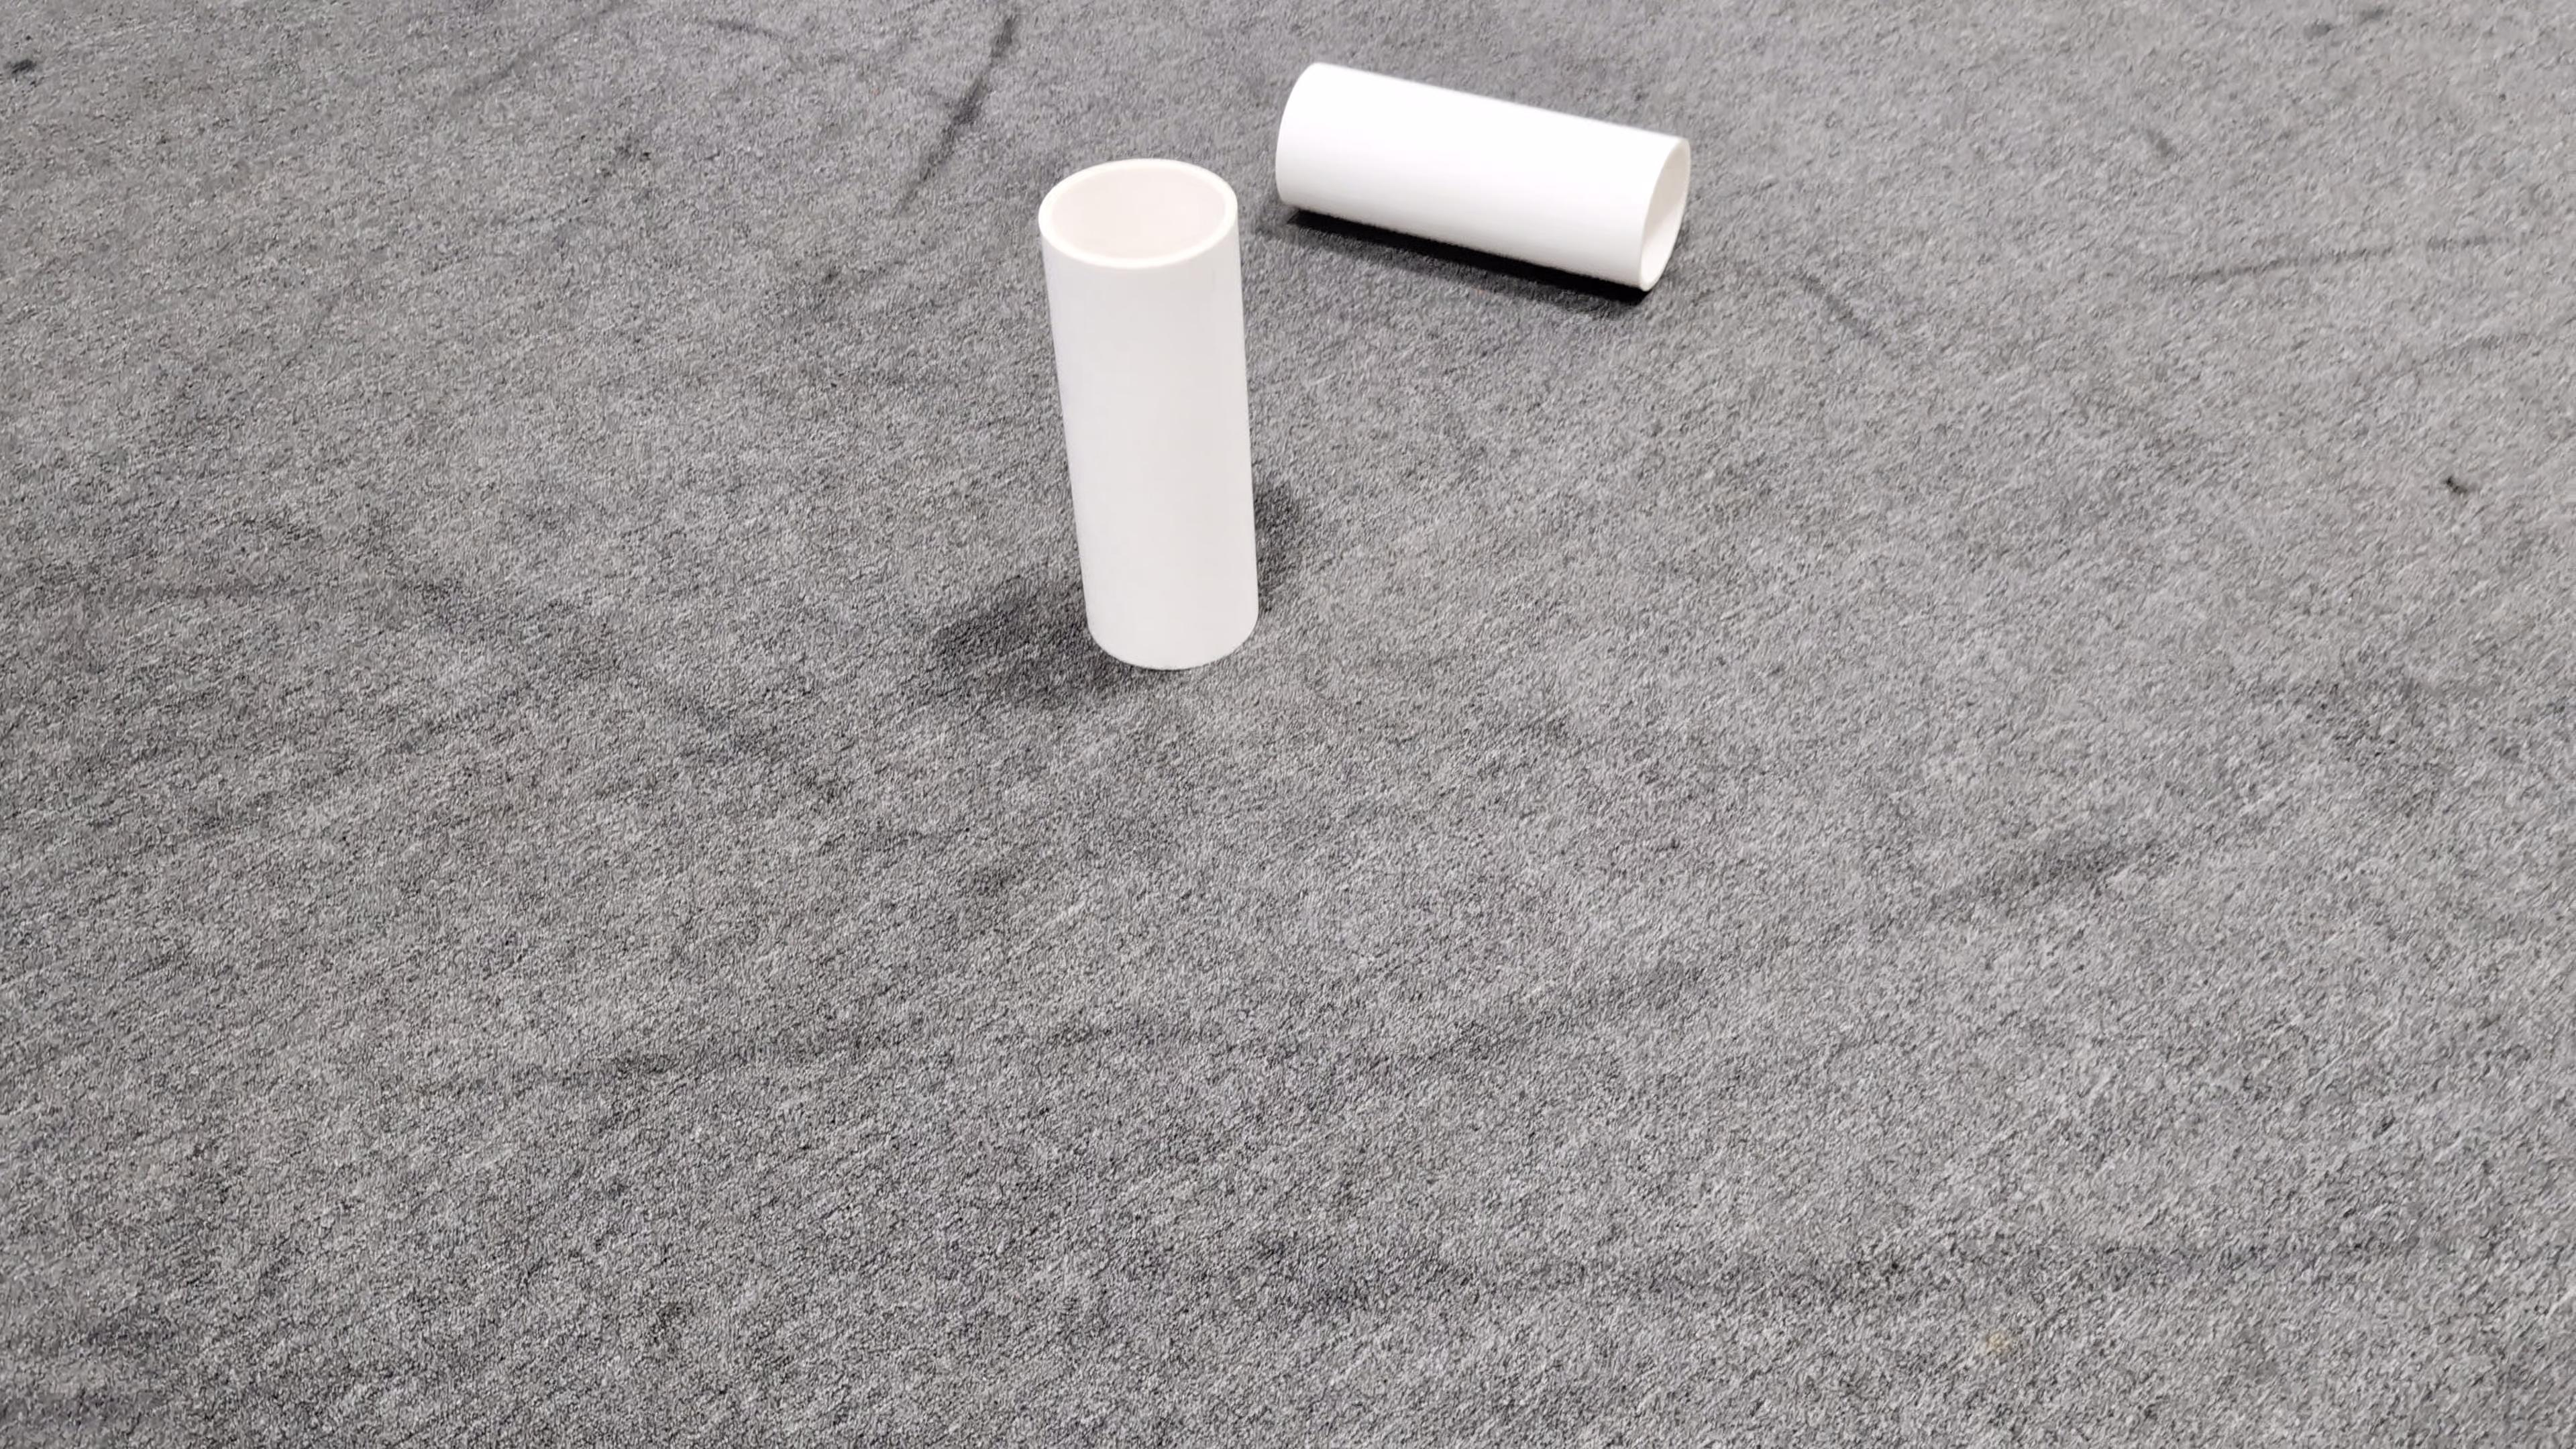coral: (1035, 156, 1261, 669), (1272, 58, 1695, 292)
